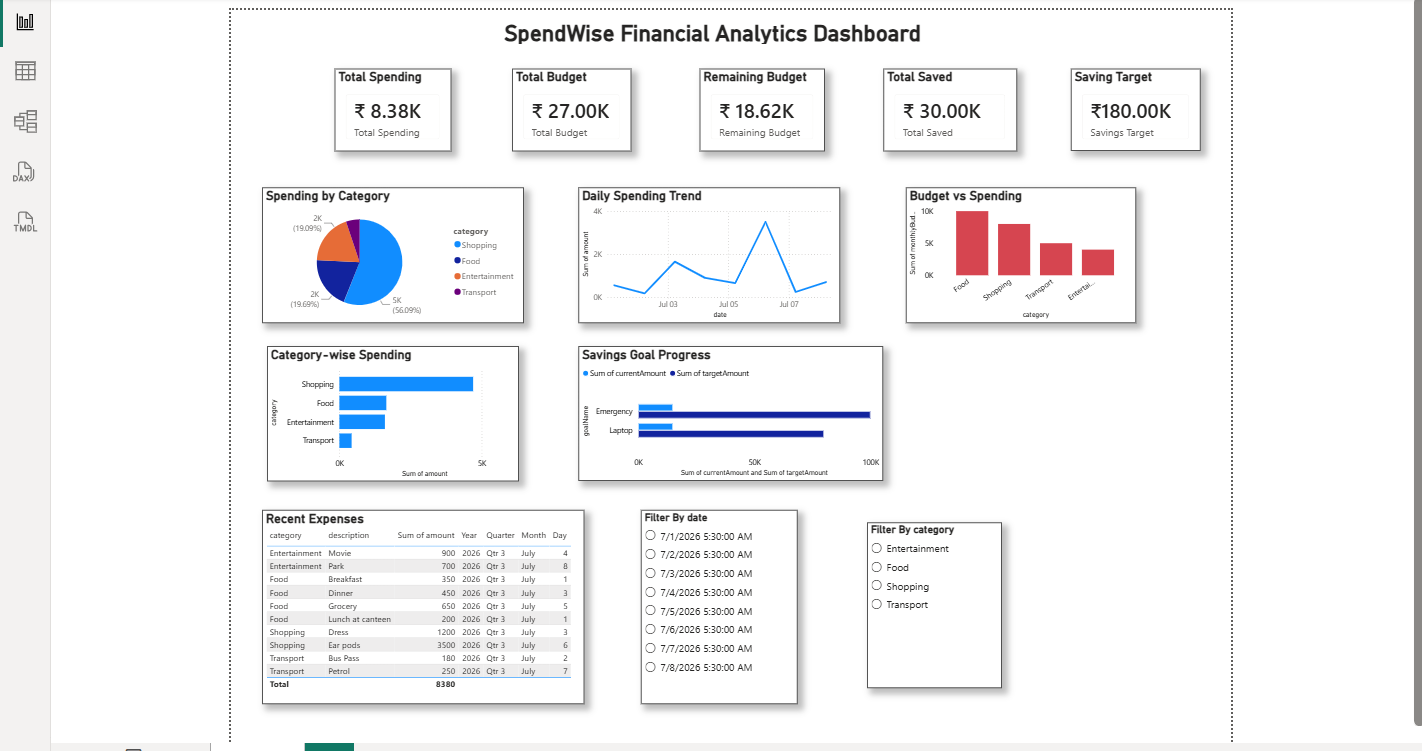

Layout of this report page (visuals, bound fields, positions):
{"tool":"powerbi","page":{"name":"Page 1","canvas":[1600,1200],"ordinal":0},"visuals":[{"type":"cardVisual","title":"Total Spending","fields":{"Data":["expenses.Total Spending"]},"box":[166.7,93.3,186.7,131.7],"z":0},{"type":"cardVisual","title":"Total Budget","fields":{"Data":["expenses.Total Budget"]},"box":[450,93.3,190,131.7],"z":1},{"type":"cardVisual","title":"Remaining Budget","fields":{"Data":["expenses.Remaining Budget"]},"box":[750,93.3,200,131.7],"z":2},{"type":"cardVisual","title":"Total Saved","fields":{"Data":["expenses.Total Saved"]},"box":[1043.3,93.3,213.3,131.7],"z":3},{"type":"cardVisual","title":"Saving Target","fields":{"Data":["expenses.Savings Target"]},"box":[1343.8,93.8,207.5,131.2],"z":4},{"type":"pieChart","title":"Spending by Category","fields":{"Category":["expenses.category"],"Y":["Sum(expenses.amount)"]},"box":[50,283.3,418.3,216.7],"z":5},{"type":"lineChart","title":"Daily Spending Trend","fields":{"Category":["expenses.date"],"Y":["Sum(expenses.amount)"]},"box":[556.7,283.3,418.3,216.7],"z":6},{"type":"clusteredBarChart","title":"Category-wise Spending","fields":{"Category":["expenses.category"],"Y":["Sum(expenses.amount)"]},"box":[58,538,402,216],"z":7},{"type":"listSlicer","title":"Filter By category","fields":{"Values":["expenses.category"]},"box":[1017.5,820,215,265],"z":8},{"type":"listSlicer","title":"Filter By date","fields":{"Values":["expenses.date"]},"box":[655,800,250,310],"z":9},{"type":"clusteredColumnChart","title":"Budget vs Spending","fields":{"Y":["Sum(budgets.monthlyBudget)"],"Category":["budgets.category"]},"box":[1080,283.3,368.3,216.7],"z":10},{"type":"clusteredBarChart","title":"Savings Goal Progress","fields":{"Category":["goals.goalName"],"Y":["Sum(goals.currentAmount)","Sum(goals.targetAmount)"]},"box":[555,537.5,487.5,215],"z":11},{"type":"tableEx","title":"Recent Expenses","fields":{"Values":["expenses.category","expenses.description","Sum(expenses.amount)","expenses.date.Variation.Date Hierarchy.Year","expenses.date.Variation.Date Hierarchy.Quarter","expenses.date.Variation.Date Hierarchy.Month","expenses.date.Variation.Date Hierarchy.Day"]},"box":[50,800,515,310],"z":12},{"type":"textbox","title":"SpendWise Financial Analytics Dashboard","box":[431.7,16.7,693.3,38.3],"z":13}]}

Visuals, with their boxes in screenshot pixels (x1, y1, x2, y2):
"Total Spending" cardVisual: x1=336, y1=69, x2=452, y2=150
"Total Budget" cardVisual: x1=511, y1=69, x2=629, y2=150
"Remaining Budget" cardVisual: x1=697, y1=69, x2=820, y2=150
"Total Saved" cardVisual: x1=878, y1=69, x2=1010, y2=150
"Saving Target" cardVisual: x1=1063, y1=69, x2=1192, y2=150
"Spending by Category" pieChart: x1=264, y1=186, x2=523, y2=320
"Daily Spending Trend" lineChart: x1=577, y1=186, x2=836, y2=320
"Category-wise Spending" clusteredBarChart: x1=269, y1=343, x2=517, y2=477
"Filter By category" listSlicer: x1=862, y1=518, x2=995, y2=681
"Filter By date" listSlicer: x1=638, y1=505, x2=792, y2=697
"Budget vs Spending" clusteredColumnChart: x1=901, y1=186, x2=1128, y2=320
"Savings Goal Progress" clusteredBarChart: x1=576, y1=343, x2=877, y2=476
"Recent Expenses" tableEx: x1=264, y1=505, x2=582, y2=697
"SpendWise Financial Analytics Dashboard" textbox: x1=500, y1=21, x2=928, y2=45
